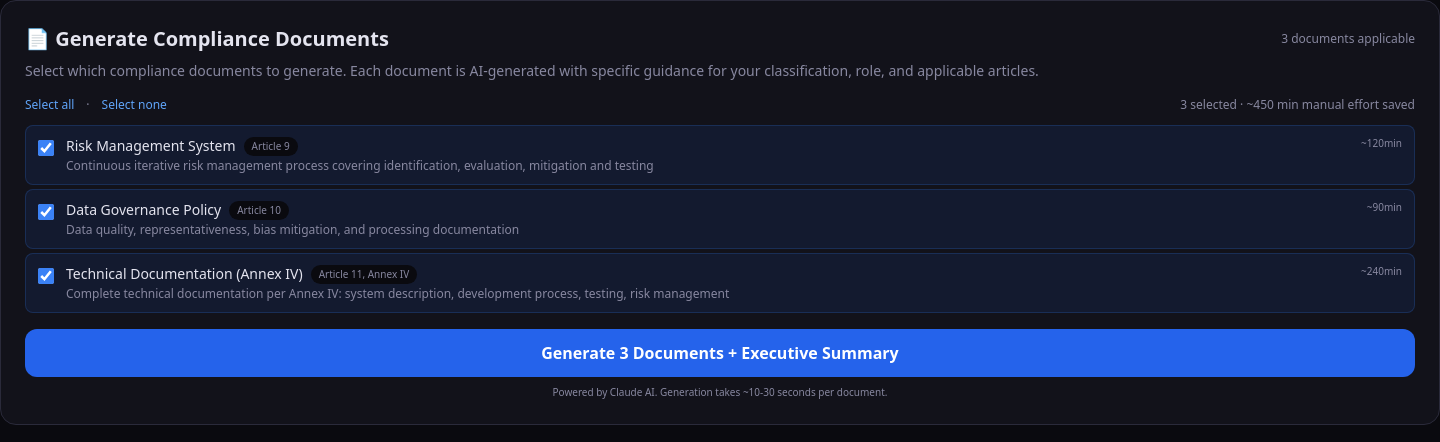
Test: L6-DG-I: Idle template selection › DG-I09: toggling checkbox updates selection count
What coordinates should you click on to do the following:
click the 1st checkbox
I would click on:
 (46, 148)
Its box is [38,140,54,156].
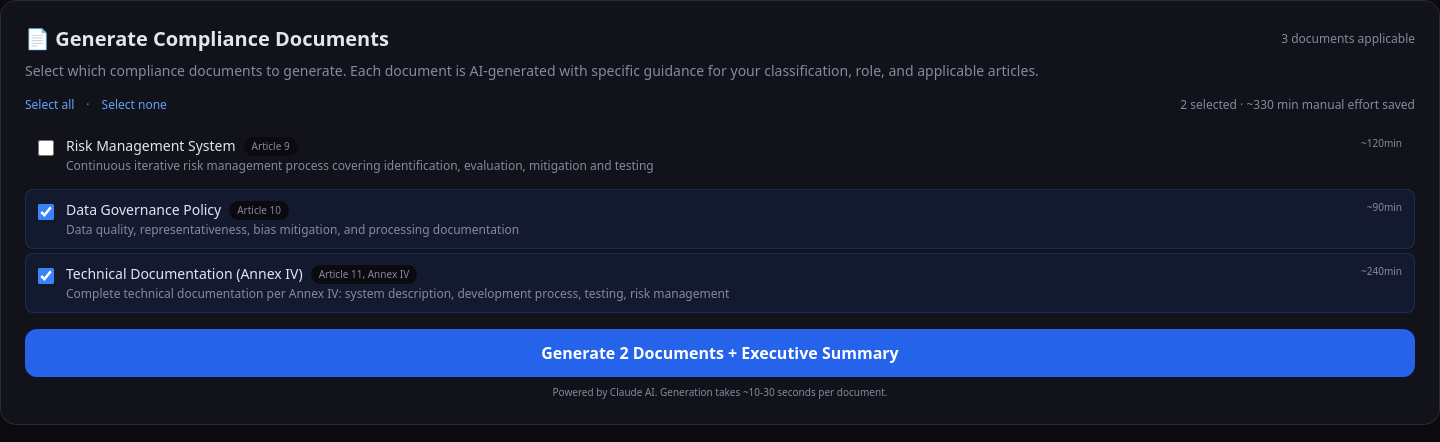
Now the text "2 selected · ~330 min manual effort saved" is shown, box [1180,97,1415,113]
